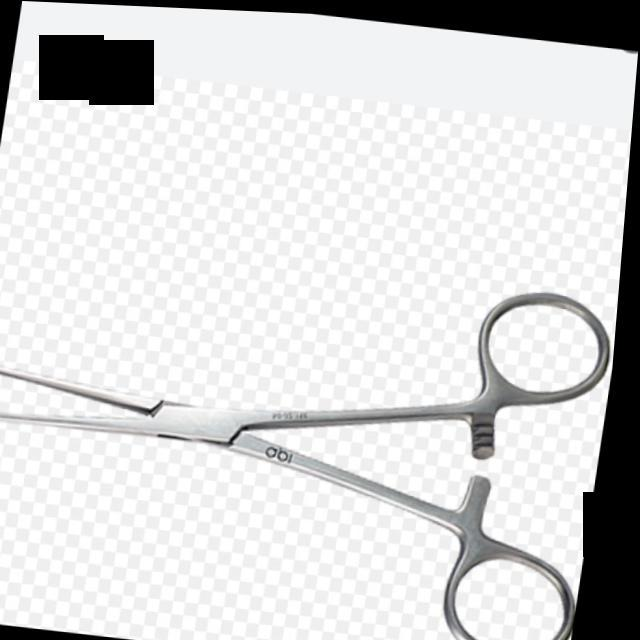Allis Forceps: (0, 222, 626, 640)
